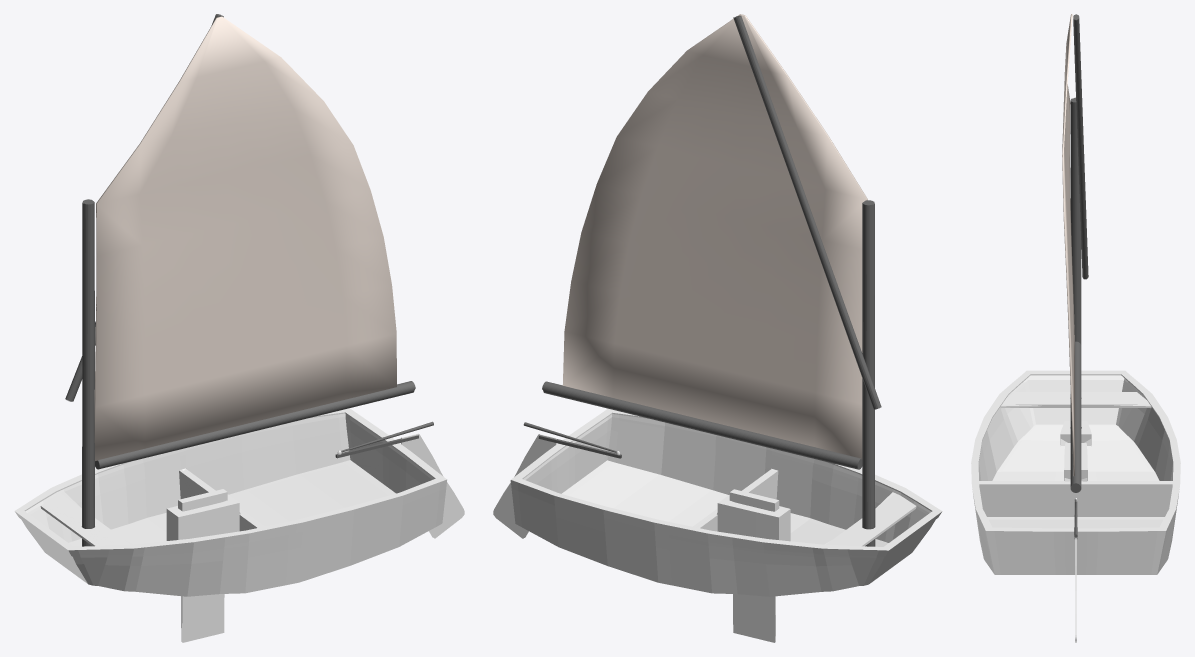
3 renders of one model, left to right at view 1: azimuth 30°, elevation 25°; view 2: azimuth 150°, elevation 25°; view 3: azimuth 270°, elevation 25°, orthographic. The views are drawn at different scales.
Visible parts, largest first — view 1: sail_sail_0, rudder_body_0, tiller_extension_aluminium_0; view 2: sail_sail_0, rudder_body_0, tiller_extension_aluminium_0; view 3: rudder_body_0, tiller_extension_aluminium_0, sail_sail_0.
Boxes of the visible parts, x1,y1,x2,y2 form: sail_sail_0: [94, 16, 396, 460]; rudder_body_0: [14, 408, 464, 642]; tiller_extension_aluminium_0: [65, 14, 433, 546]; sail_sail_0: [562, 14, 867, 459]; rudder_body_0: [493, 408, 942, 642]; tiller_extension_aluminium_0: [523, 15, 881, 546]; rudder_body_0: [971, 370, 1180, 642]; tiller_extension_aluminium_0: [1070, 14, 1088, 538]; sail_sail_0: [1062, 14, 1074, 476].
Bounding box in the file's own units: 12.36 × 17.3 × 5.77.
